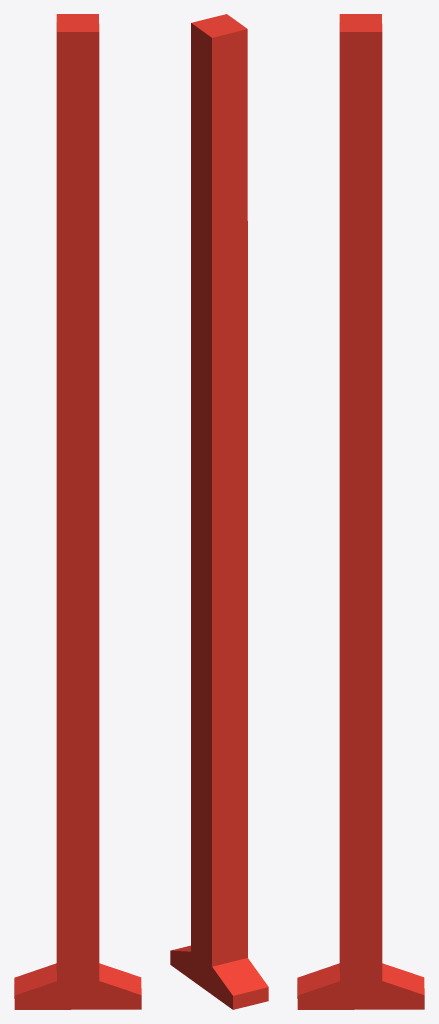
File: group1441821170_lev2.glb
The picture shows the model from 3 angles, left to right: view 1: azimuth 90°, elevation 25°; view 2: azimuth 210°, elevation 25°; view 3: azimuth 270°, elevation 25°; orthographic projection. The views are drawn at different scales.
Parts seen in each view (by area): view 1: group1441821170_lev2; view 2: group1441821170_lev2; view 3: group1441821170_lev2.
Part boxes in pixels (box(x1,y1,x2,y2)): group1441821170_lev2: box(14, 14, 141, 1009); group1441821170_lev2: box(170, 14, 268, 1009); group1441821170_lev2: box(297, 14, 424, 1009).
Size of the model in its own units: 0.49 by 12.24 by 1.44.
